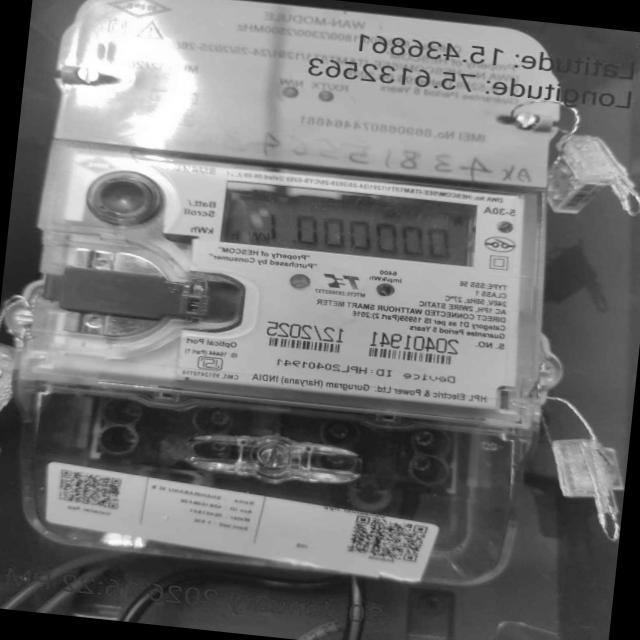meter: (10, 0, 563, 425)
